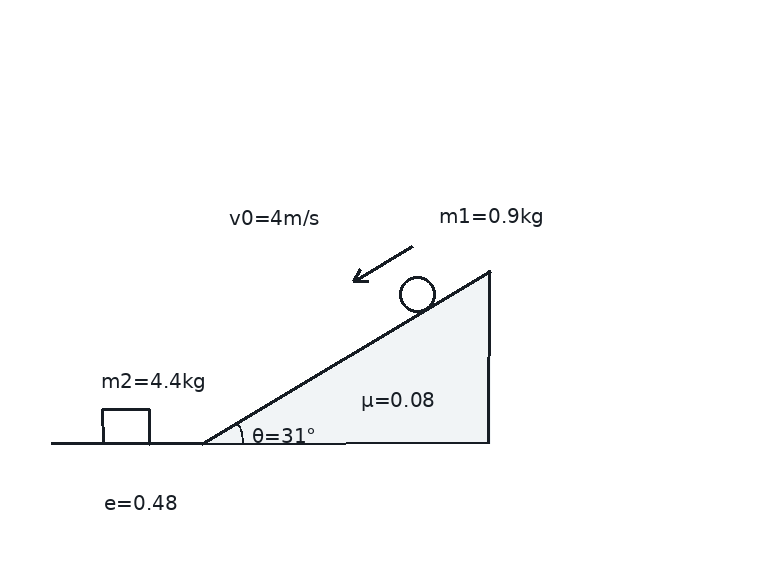ball: (397, 274, 437, 314)
block: (101, 407, 151, 445)
ramp: (201, 268, 492, 445)
